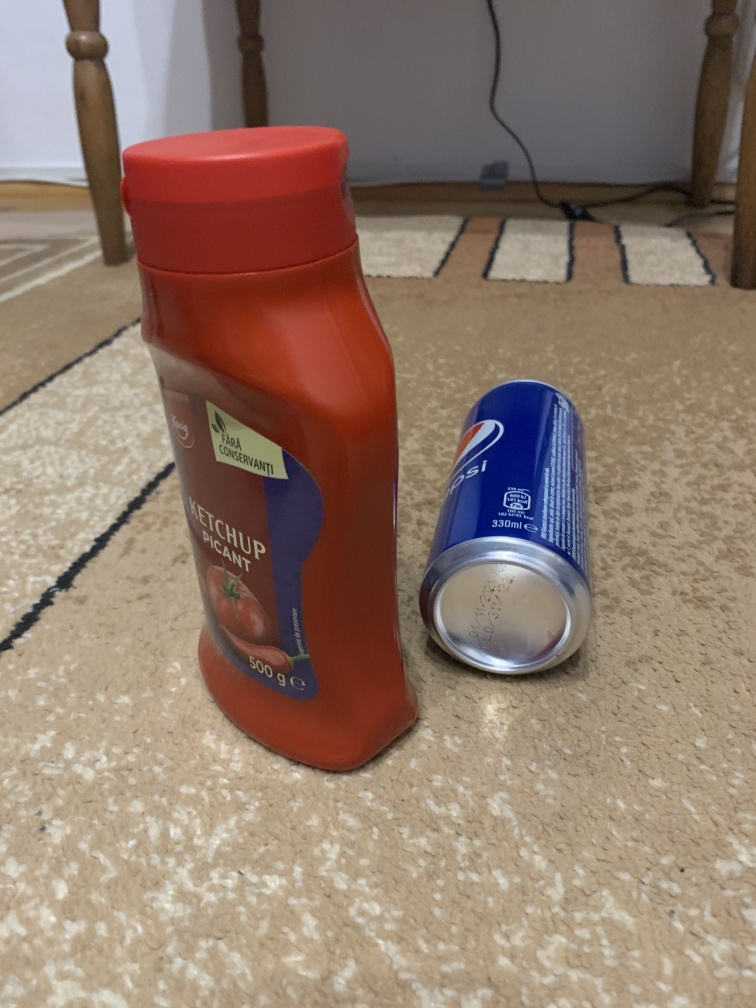ketchup: (115, 123, 422, 789)
pepsi: (415, 373, 602, 681)
